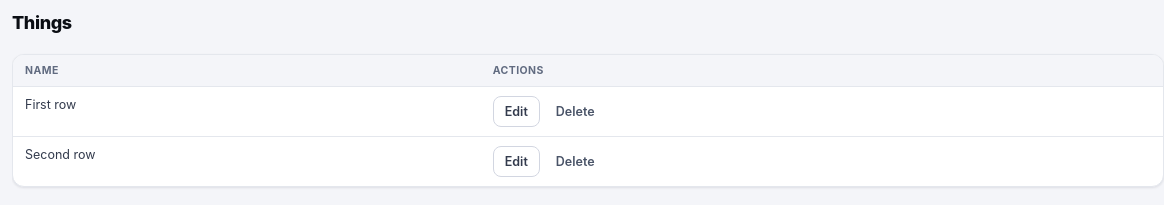
Scenario: AdminResourcePage — row actions › derives the running verb from whatever the label is
Expected: the text "First row" is shown, [13,86,481,136]
What coordinates should you click on to do the following:
click the button "Delete" in the row of "First row"
I would click on:
 (575, 111)
Its box is [544,96,607,127].
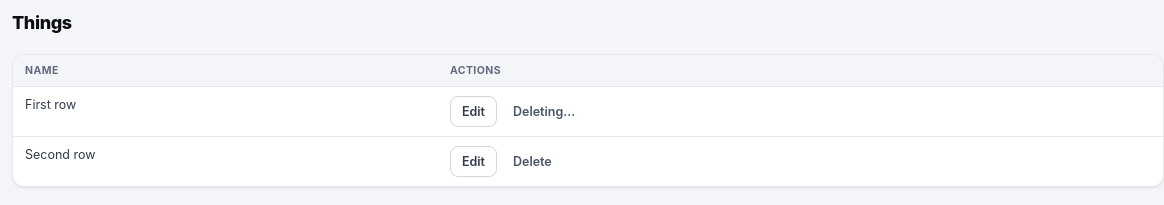
Expected: the button "Deleting…" is shown, [501,96,587,127]
